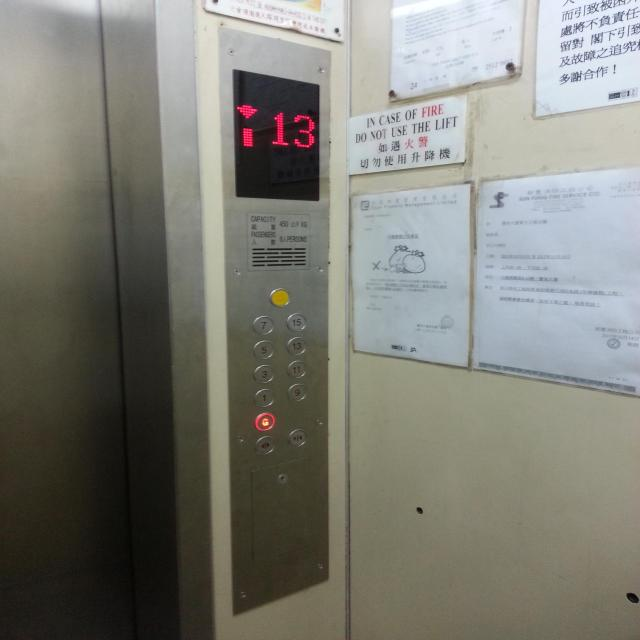1: (252, 387, 275, 408)
11: (285, 359, 307, 379)
13: (285, 336, 307, 356)
15: (284, 312, 306, 332)
3: (251, 363, 275, 384)
5: (252, 339, 275, 360)
7: (251, 314, 274, 336)
9: (285, 382, 307, 402)
G: (253, 411, 276, 432)
alarm: (268, 287, 291, 308)
close: (286, 428, 307, 447)
led: (230, 65, 321, 204)
open: (253, 435, 276, 455)
